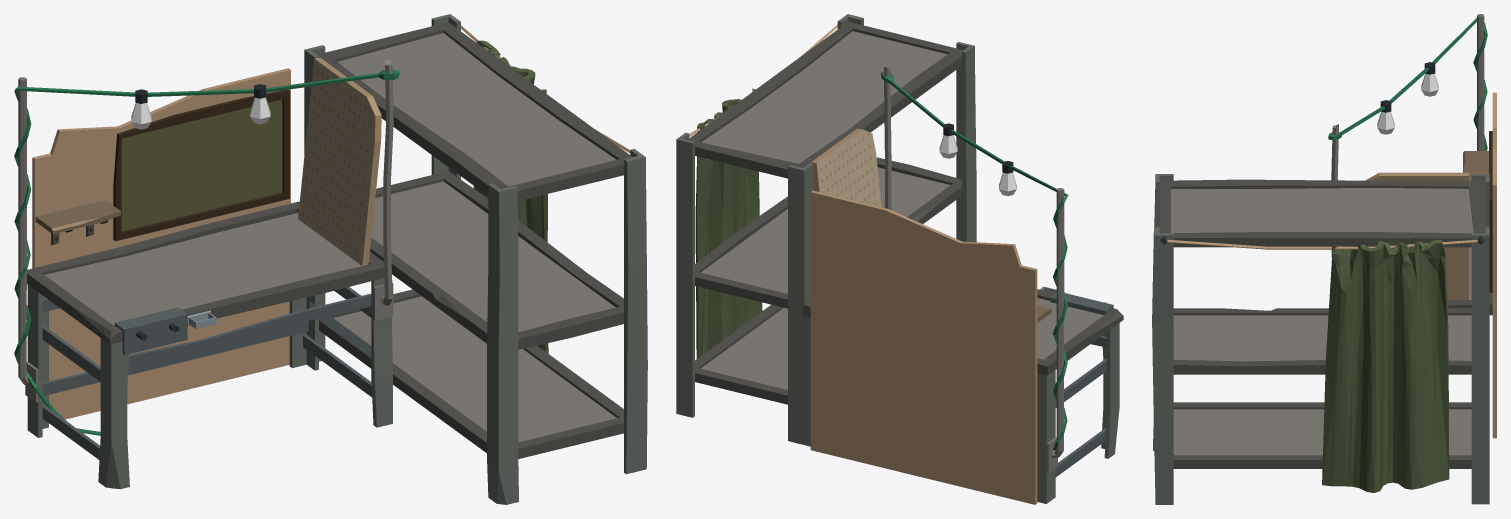
Rendered from SM_Workbench.fbx.
3 views of the same model, side by side, from view 1: azimuth 30°, elevation 25°; view 2: azimuth 150°, elevation 25°; view 3: azimuth 270°, elevation 25° (orthographic). The views are drawn at different scales.
Visible parts, largest first — view 1: SM_Workbench, SM_Workbench_Light, SM_Workbench_Holder, SM_Workbench_Curtain; view 2: SM_Workbench, SM_Workbench_Curtain, SM_Workbench_Light, SM_Workbench_Holder; view 3: SM_Workbench, SM_Workbench_Curtain, SM_Workbench_Light.
Boxes of the visible parts, x1=… form: SM_Workbench: x1=27, y1=14, x2=647, y2=504; SM_Workbench_Light: x1=14, y1=59, x2=399, y2=435; SM_Workbench_Holder: x1=114, y1=307, x2=187, y2=355; SM_Workbench_Curtain: x1=459, y1=20, x2=643, y2=353; SM_Workbench: x1=676, y1=14, x2=1123, y2=504; SM_Workbench_Curtain: x1=677, y1=20, x2=838, y2=358; SM_Workbench_Light: x1=881, y1=66, x2=1068, y2=472; SM_Workbench_Holder: x1=1050, y1=293, x2=1113, y2=314; SM_Workbench: x1=1152, y1=92, x2=1496, y2=504; SM_Workbench_Curtain: x1=1160, y1=236, x2=1485, y2=492; SM_Workbench_Light: x1=1328, y1=14, x2=1487, y2=180.
Size of the model in its own units: 307 by 235 by 232.
